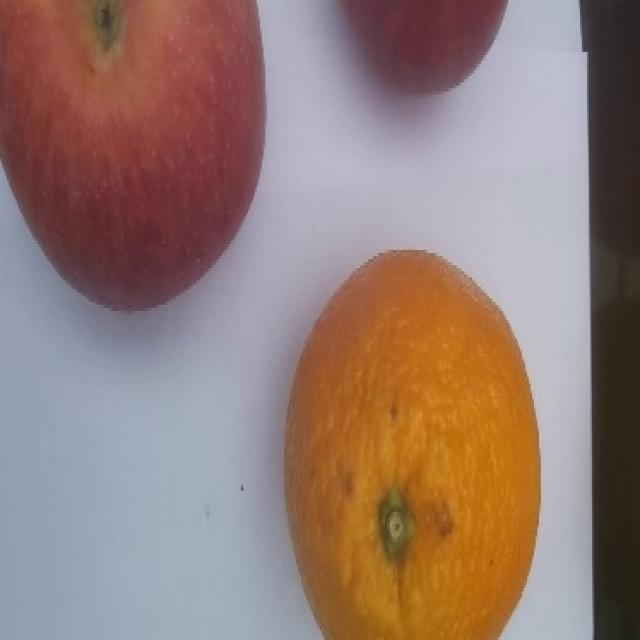Apple: (0, 0, 266, 312), (336, 0, 509, 97)
Orange: (282, 247, 541, 639)
